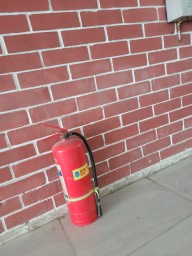fire_extinguisher: (22, 55, 99, 136)
